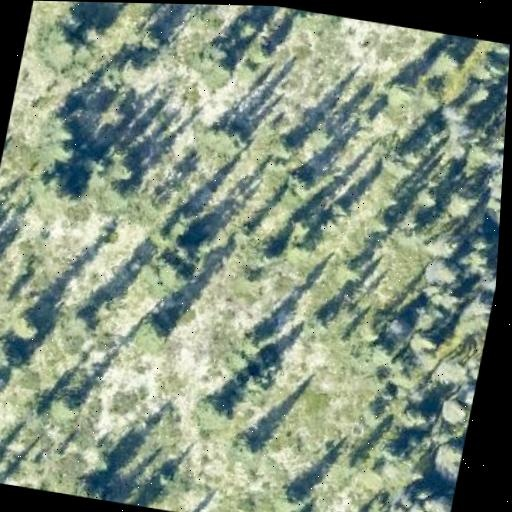tree-top: (26, 157, 93, 216), (32, 14, 94, 72), (188, 35, 244, 85), (202, 112, 257, 162), (223, 321, 276, 370), (127, 307, 179, 356), (40, 107, 87, 161), (145, 247, 196, 296), (95, 137, 143, 187), (191, 383, 241, 430), (247, 236, 289, 283), (419, 252, 467, 293), (400, 321, 448, 362), (228, 423, 273, 466), (4, 305, 48, 348), (440, 181, 483, 225), (270, 476, 315, 512), (429, 434, 465, 479), (46, 387, 87, 426), (426, 41, 466, 78), (381, 138, 421, 175), (381, 72, 421, 108), (434, 393, 472, 430), (283, 236, 322, 269), (279, 162, 314, 195), (378, 433, 411, 468), (114, 54, 147, 87), (435, 97, 468, 129), (233, 12, 267, 42), (72, 474, 106, 500), (302, 11, 337, 32), (430, 486, 455, 512), (497, 69, 509, 104), (0, 376, 1, 427)
